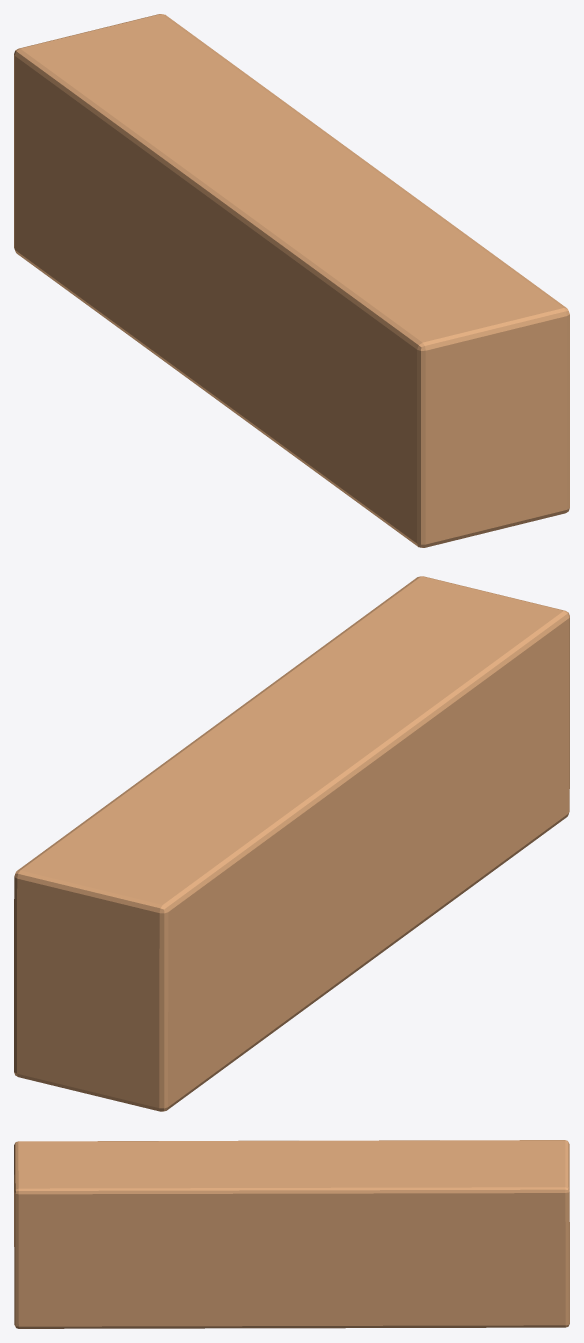
File: ahsap.fbx
3 views of the same model, one above another, from view 1: azimuth 30°, elevation 25°; view 2: azimuth 150°, elevation 25°; view 3: azimuth 270°, elevation 25° (orthographic). The views are drawn at different scales.
Parts seen in each view (by area): view 1: Cube; view 2: Cube; view 3: Cube.
Boxes of the visible parts, bbox=[...] form: Cube: bbox=[14, 14, 569, 547]; Cube: bbox=[14, 576, 569, 1111]; Cube: bbox=[14, 1140, 569, 1328].
Size of the model in its own units: 280 by 358 by 1281.
